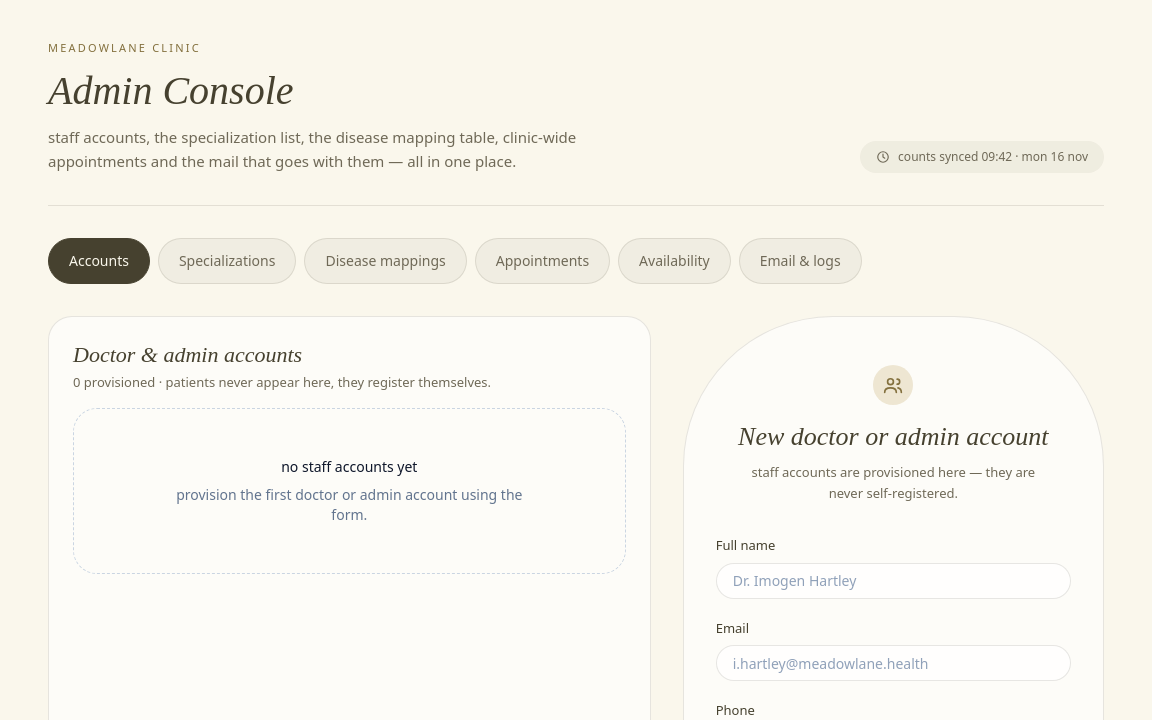
Test: AdminConsole specializations › [AC-050] renaming a specialization puts the new name through PUT and the row updates
The image size is (1152, 720).
Click the tab "Specializations": (227, 261) [158,238,296,284]
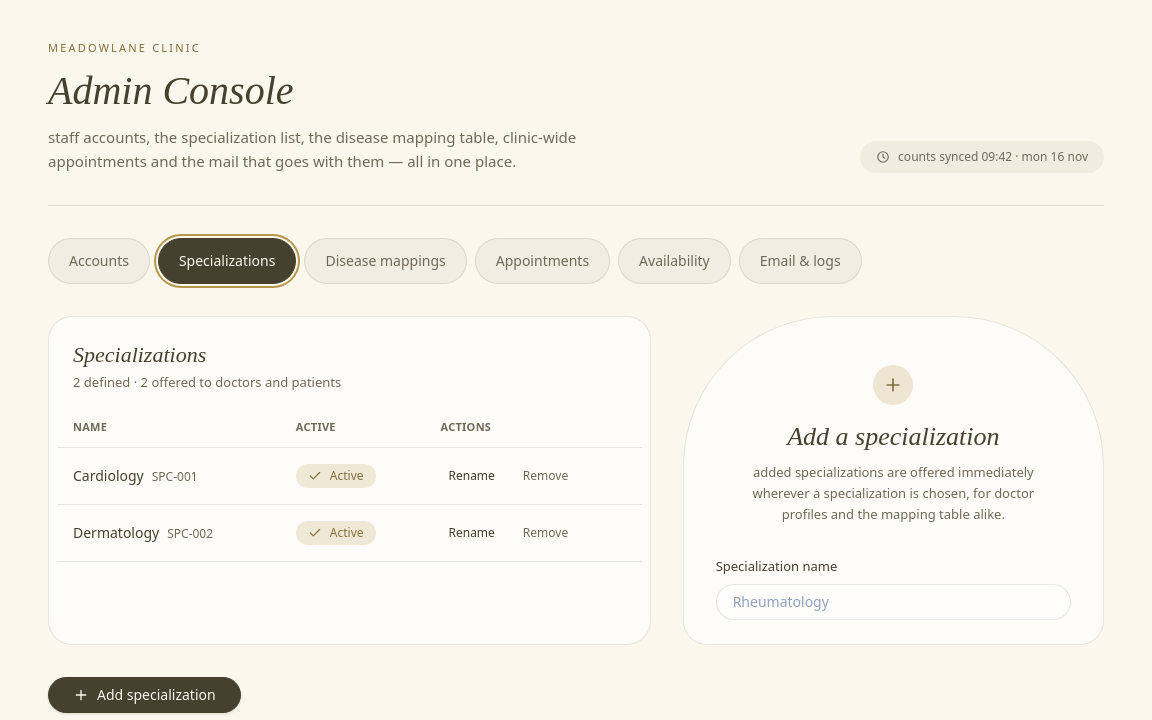
Result: the text "Cardiology" is shown at [73,466,144,485]
Click the button named "Rename Cardiology": (472, 476) [440,464,503,488]
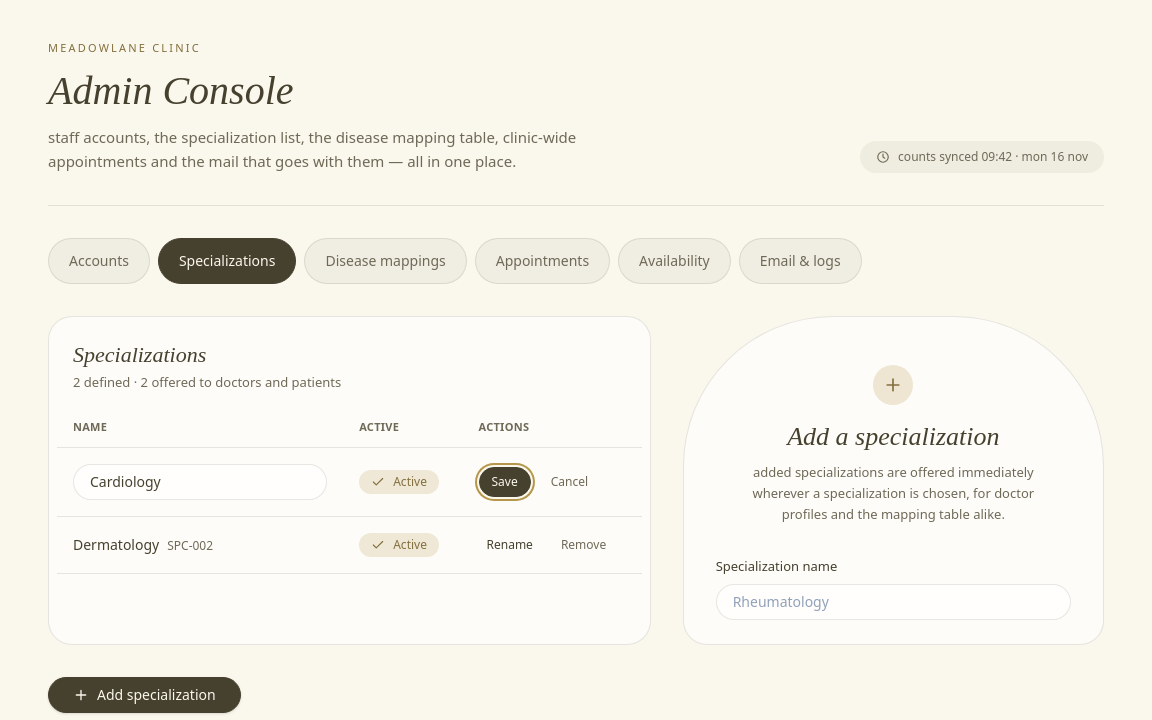
Replace the text in the field showing "Cardiology" with "Heart Medicine": (200, 482) [73,464,327,500]
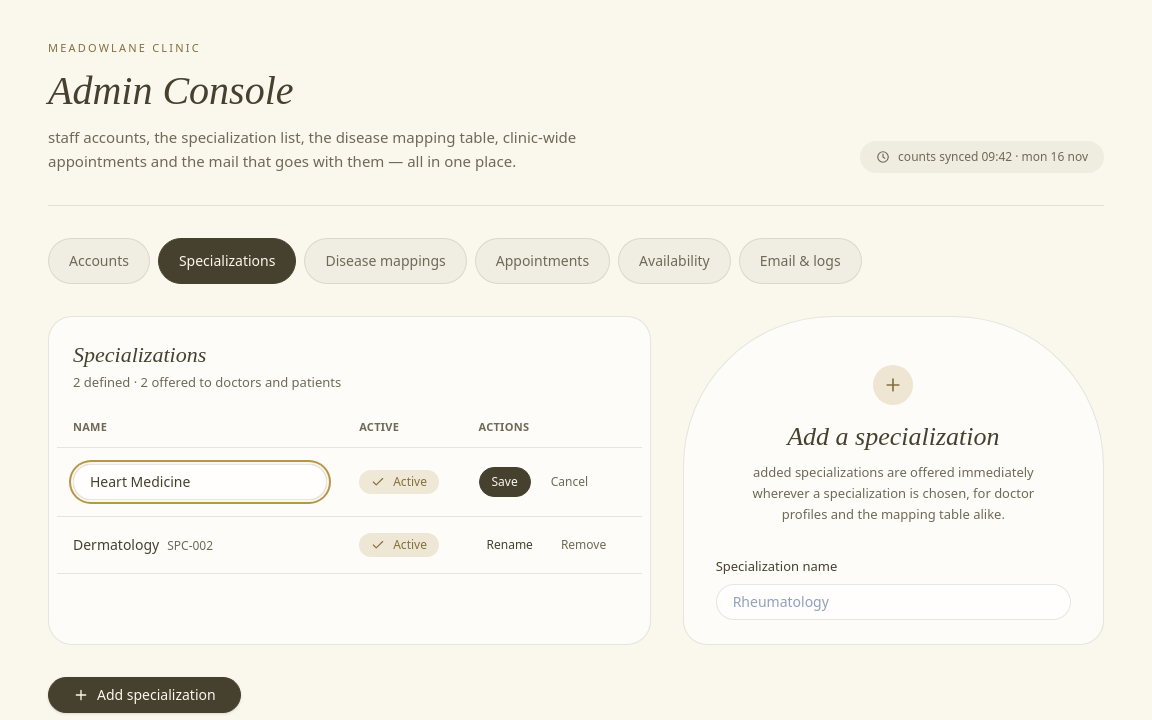
Click the button named "Save Cardiology": (505, 482) [478,467,531,497]
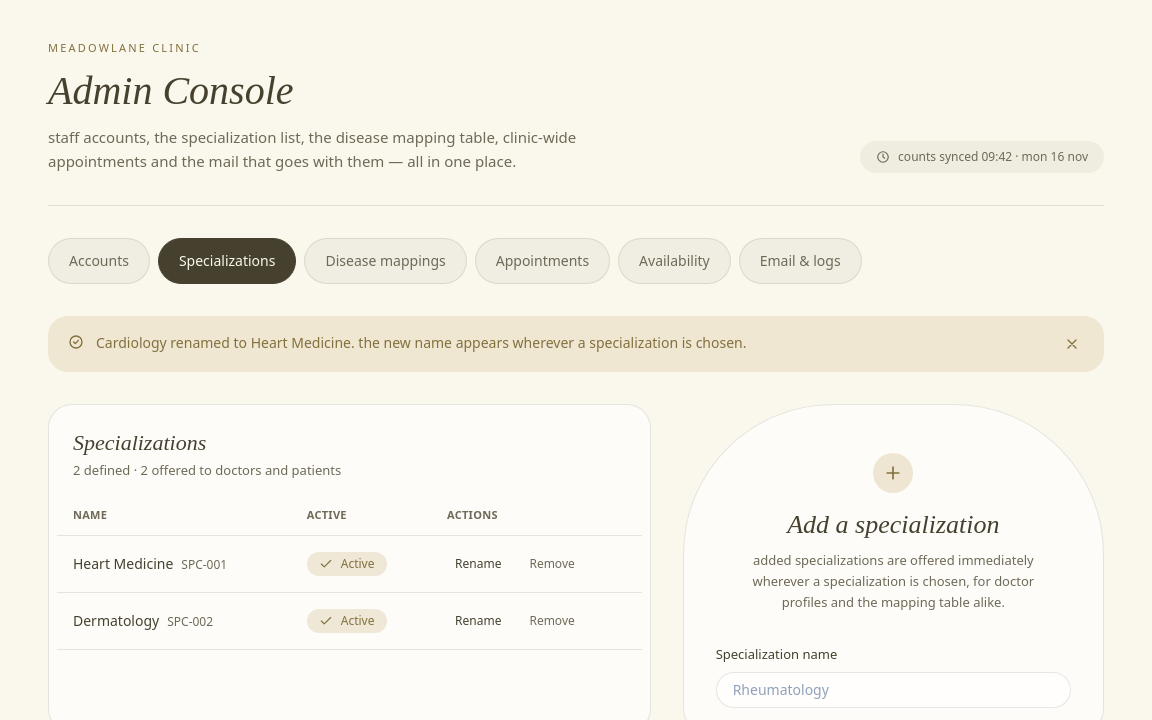
Result: the text "Heart Medicine" is shown at [73,554,173,573]
